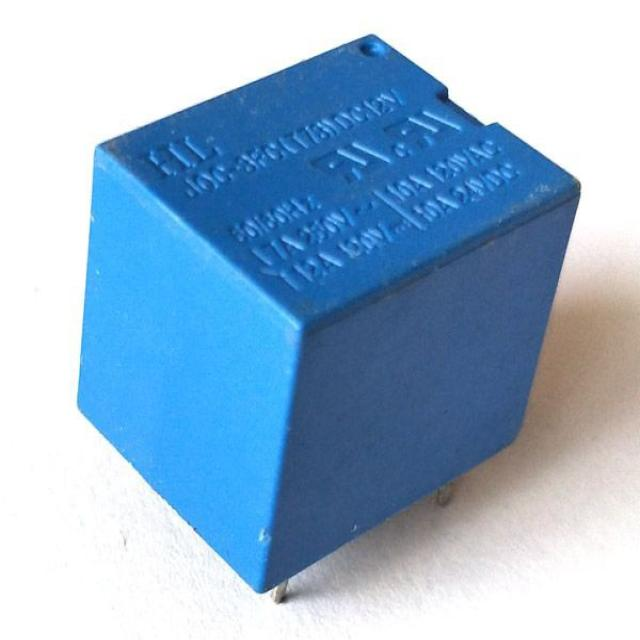Relay: (78, 35, 581, 596)
